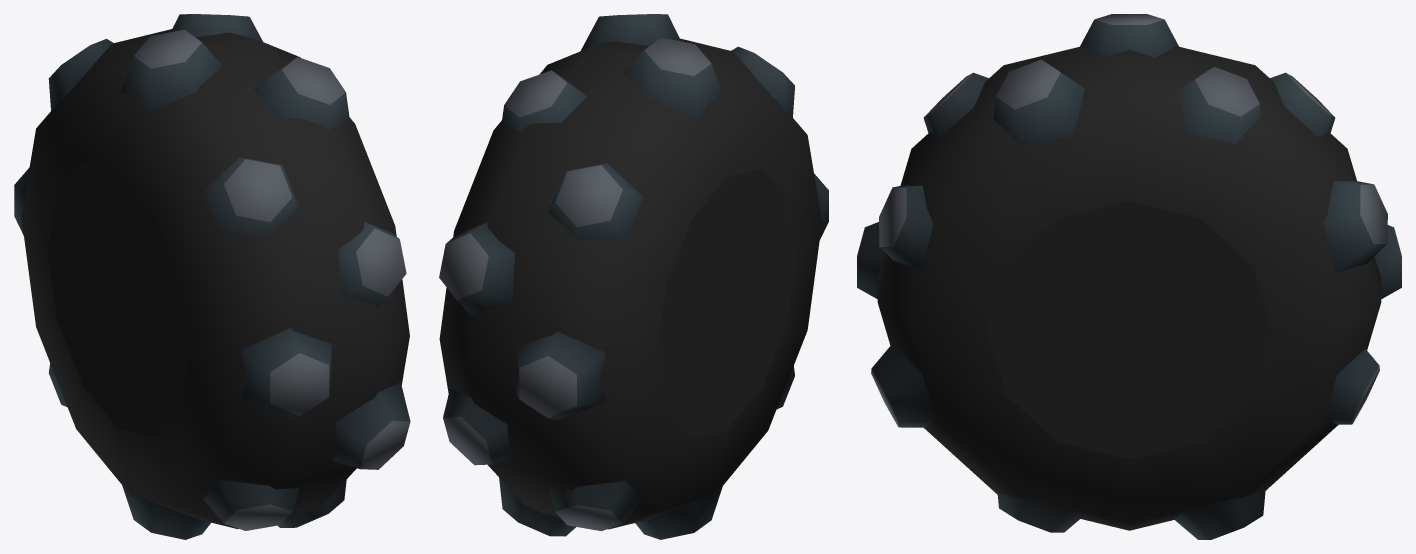
File: robot_wheel.fbx
3 views of the same model, side by side, from view 1: azimuth 30°, elevation 25°; view 2: azimuth 150°, elevation 25°; view 3: azimuth 270°, elevation 25° (orthographic).
Visible parts, largest first — view 1: Cylinder.002; view 2: Cylinder.002; view 3: Cylinder.002.
Part boxes in pixels (left/top/right/bottom): Cylinder.002: left=14, top=14, right=410, bottom=539; Cylinder.002: left=439, top=14, right=828, bottom=539; Cylinder.002: left=857, top=14, right=1401, bottom=539.
Bounding box in the file's own units: 0.0386 × 0.0932 × 0.0932.
